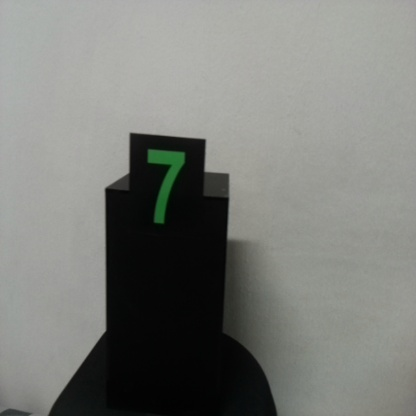id_7: (130, 135, 207, 262)
